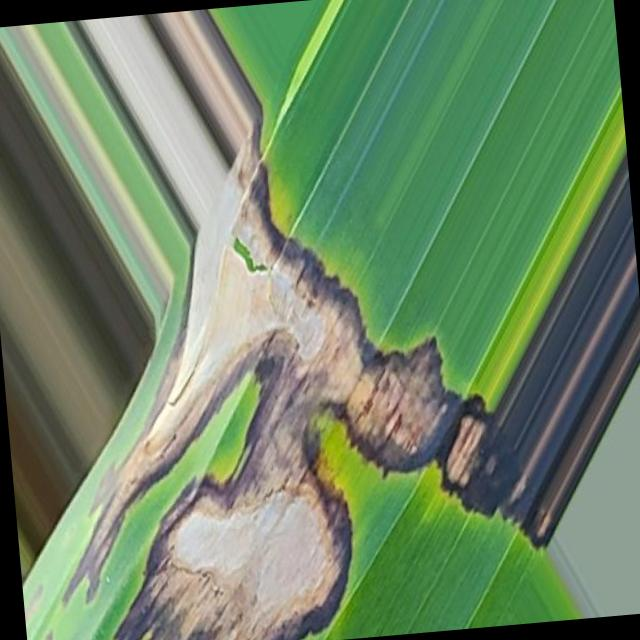Banana_Black_Sigatoka: (162, 166, 466, 477), (57, 440, 397, 640)
